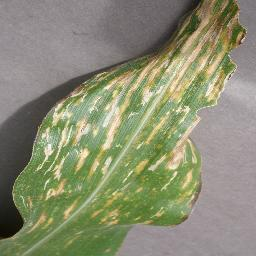Gray_Leaf_Spot: (0, 99, 212, 256), (59, 0, 250, 98)
